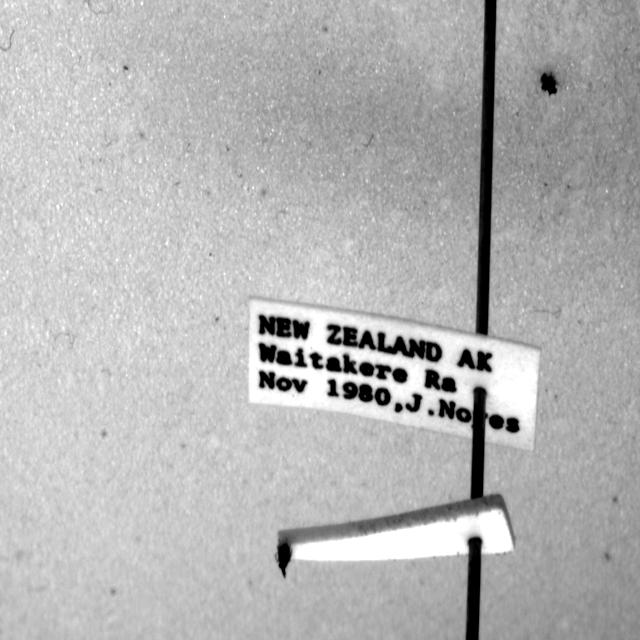typed_label: (249, 298, 540, 450)
